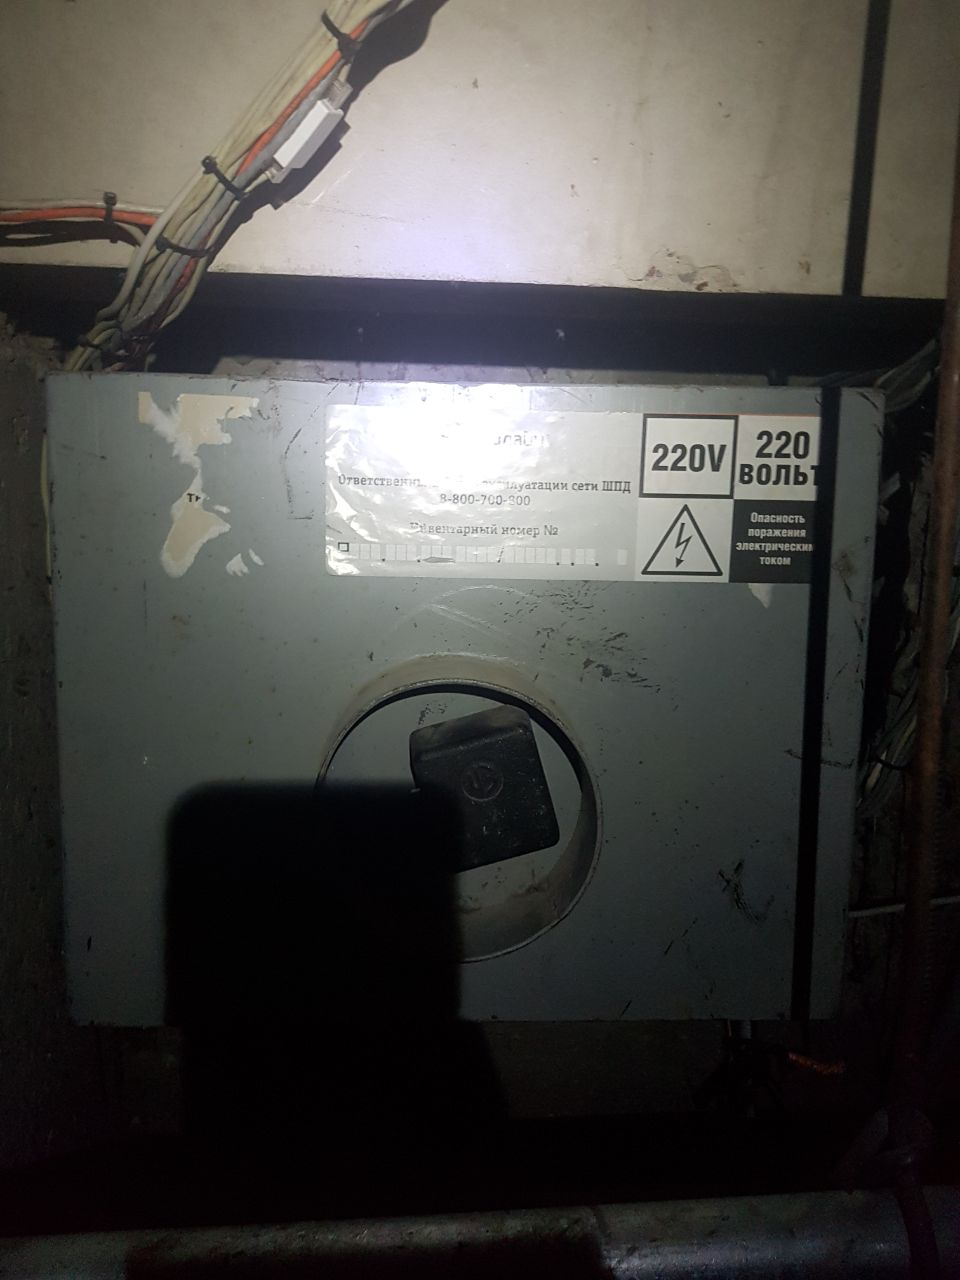shta-3: (41, 369, 888, 1028)
